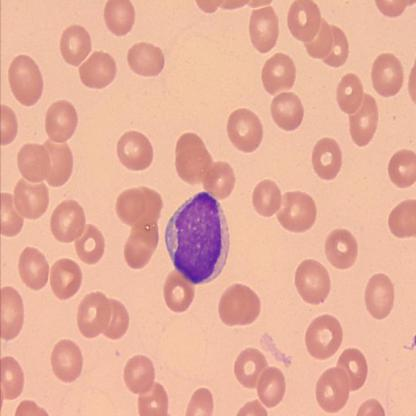Myelocyte: (166, 192, 228, 283)
